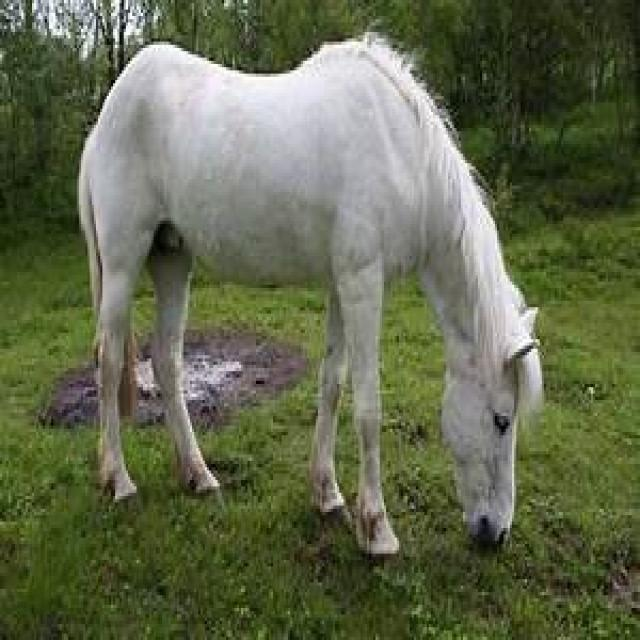horse: (77, 35, 546, 560)
